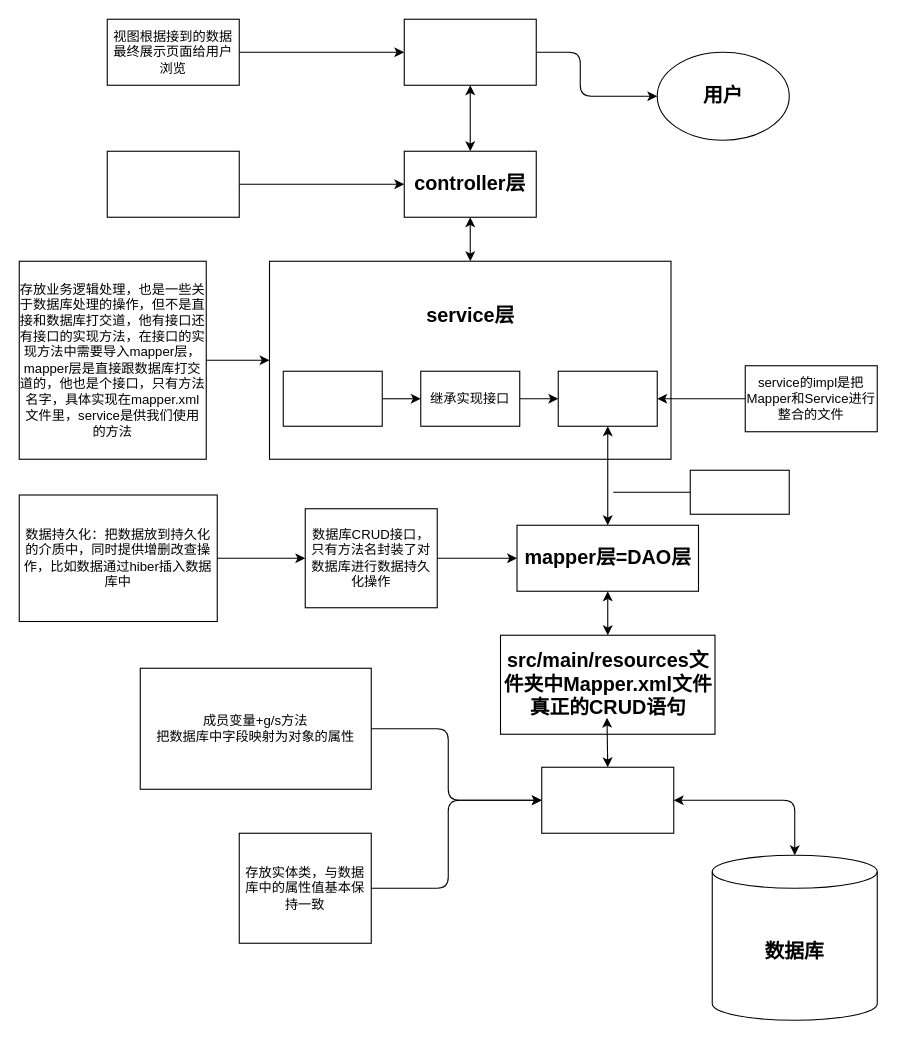
Some shapes in this 897 by 1040 pixel diagram are drawn without their labels. Here are the shapes that lost their labels. From the top down, the centre of each, then its label:
At [469,51]: "View层".
At [172,183]: "响应用户请求；决定使用什么试图、需要准备什么数据用来显示".
At [332,398]: "接口（声明方法）".
At [607,398]: "impl-接口实现".
At [739,491]: "导入".
At [607,799]: "model层".
